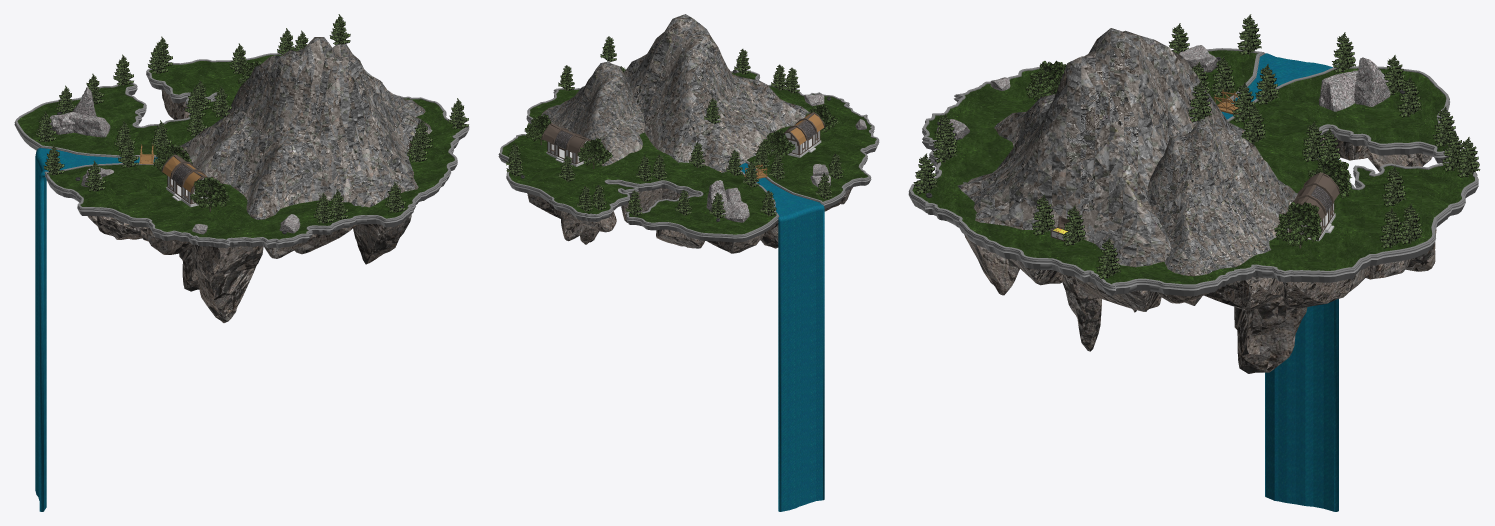
File: island_n-v1.glb
3 renders of one model, left to right at view 1: azimuth 30°, elevation 25°; view 2: azimuth 150°, elevation 25°; view 3: azimuth 270°, elevation 25°, orthographic. The views are drawn at different scales.
Parts seen in each view (by area): view 1: G-__555717, G-__555681, G-__556032, G-__556041, Group#3.002, G-__555789, G-__556014, G-__555708, G-__555627, AM113_061_Aesculus_Glabra_Defintion1, G-__556050, G-__555834 (+3 smaller); view 2: G-__555681, G-__555717, G-__556041, G-__555708, G-__556032, G-__555663, G-__555627, AM113_061_Aesculus_Glabra_Defintion1.003, AM113_061_Aesculus_Glabra_Defintion1.001, G-__555753, G-__555825, G-__555735 (+4 smaller); view 3: G-__555681, G-__555717, G-__555708, G-__556041, G-__556032, Group#3, G-__555879, G-__555996, G-__555942, AM113_061_Aesculus_Glabra_Defintion1.002, G-__555663, G-__556014 (+16 smaller).
Boxes of the visible parts, left/top/right/bottom form: G-__555717: left=177, top=37, right=432, bottom=219; G-__555681: left=17, top=54, right=464, bottom=239; G-__556032: left=14, top=53, right=469, bottom=248; G-__556041: left=35, top=148, right=157, bottom=511; Group#3.002: left=192, top=244, right=256, bottom=322; G-__555789: left=200, top=246, right=263, bottom=276; G-__556014: left=353, top=220, right=404, bottom=264; G-__555708: left=332, top=43, right=425, bottom=116; G-__555627: left=161, top=154, right=207, bottom=204; AM113_061_Aesculus_Glabra_Defintion1: left=190, top=177, right=230, bottom=208; G-__556050: left=69, top=114, right=110, bottom=137; G-__555834: left=97, top=216, right=142, bottom=239; G-__555681: left=502, top=72, right=876, bottom=234; G-__555717: left=623, top=14, right=810, bottom=172; G-__556041: left=739, top=163, right=824, bottom=511; G-__555708: left=541, top=61, right=644, bottom=166; G-__556032: left=498, top=71, right=879, bottom=242; G-__555663: left=541, top=123, right=590, bottom=164; G-__555627: left=783, top=112, right=825, bottom=155; AM113_061_Aesculus_Glabra_Defintion1.003: left=577, top=138, right=612, bottom=166; AM113_061_Aesculus_Glabra_Defintion1.001: left=762, top=130, right=795, bottom=158; G-__555753: left=656, top=229, right=704, bottom=248; G-__555825: left=621, top=188, right=662, bottom=222; G-__555735: left=561, top=211, right=591, bottom=241; G-__555681: left=912, top=50, right=1474, bottom=284; G-__555717: left=957, top=28, right=1245, bottom=267; G-__555708: left=1148, top=120, right=1297, bottom=276; G-__556041: left=1222, top=53, right=1338, bottom=511; G-__556032: left=908, top=48, right=1478, bottom=296; Group#3: left=1234, top=294, right=1307, bottom=373; G-__555879: left=1281, top=266, right=1369, bottom=308; G-__555996: left=1204, top=276, right=1283, bottom=310; G-__555942: left=1062, top=274, right=1101, bottom=351; AM113_061_Aesculus_Glabra_Defintion1.002: left=1274, top=202, right=1322, bottom=246; G-__555663: left=1285, top=172, right=1340, bottom=238; G-__556014: left=964, top=234, right=1019, bottom=295.
Size of the model in its own units: 60.08 by 70.31 by 60.18.
Materials: 16 (9 with a texture image).
